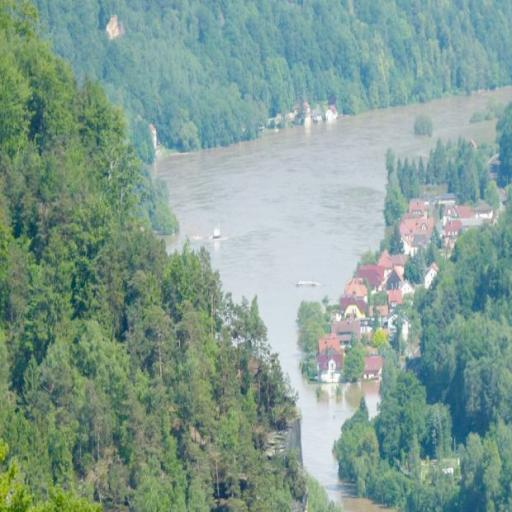flood: (154, 87, 512, 512)
house: (315, 333, 351, 387), (402, 202, 435, 252), (439, 199, 464, 249), (358, 350, 380, 386), (386, 308, 410, 340), (344, 276, 366, 298), (475, 202, 494, 224), (424, 261, 438, 290), (378, 251, 392, 270)
